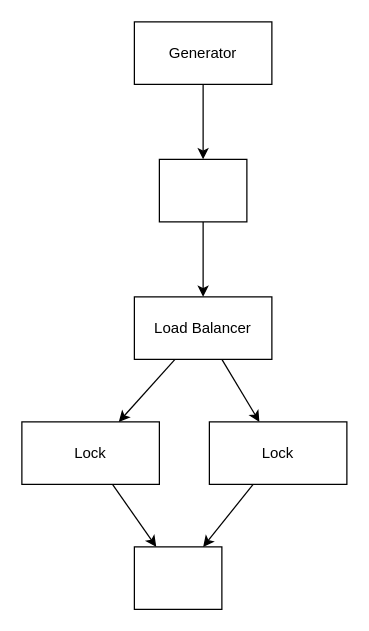
The diagram is 369 pixels wide and 631 high, and some of its shapes have lost their labels. The shapes that lost their labels are listed below. From the top down, each one's centre as x and y in pixels, then its label:
(x=202, y=190): Queue
(x=177, y=577): Sink
